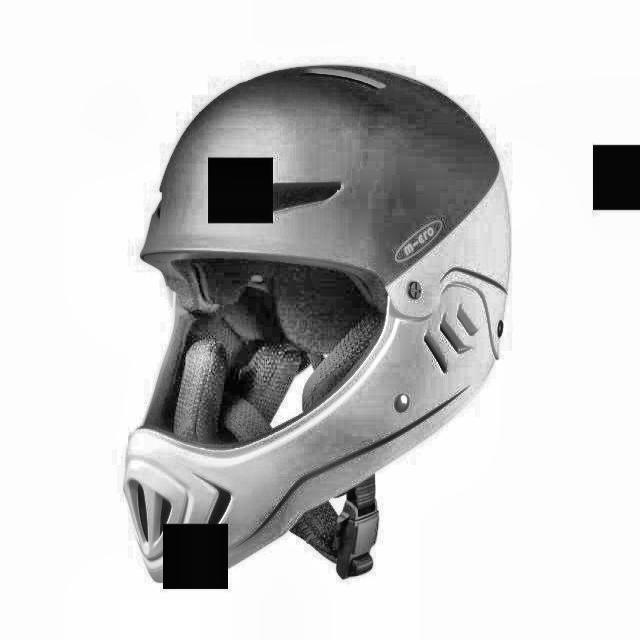Helmet: (120, 53, 514, 608)
